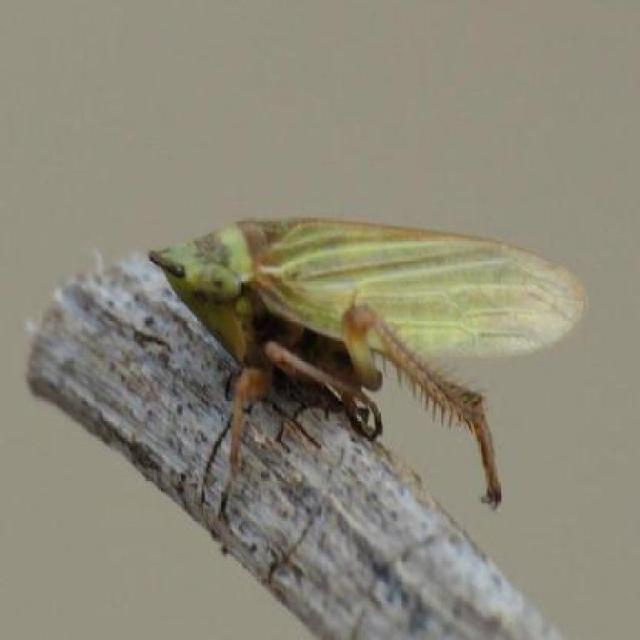green-leafhopper: (147, 216, 588, 519)
